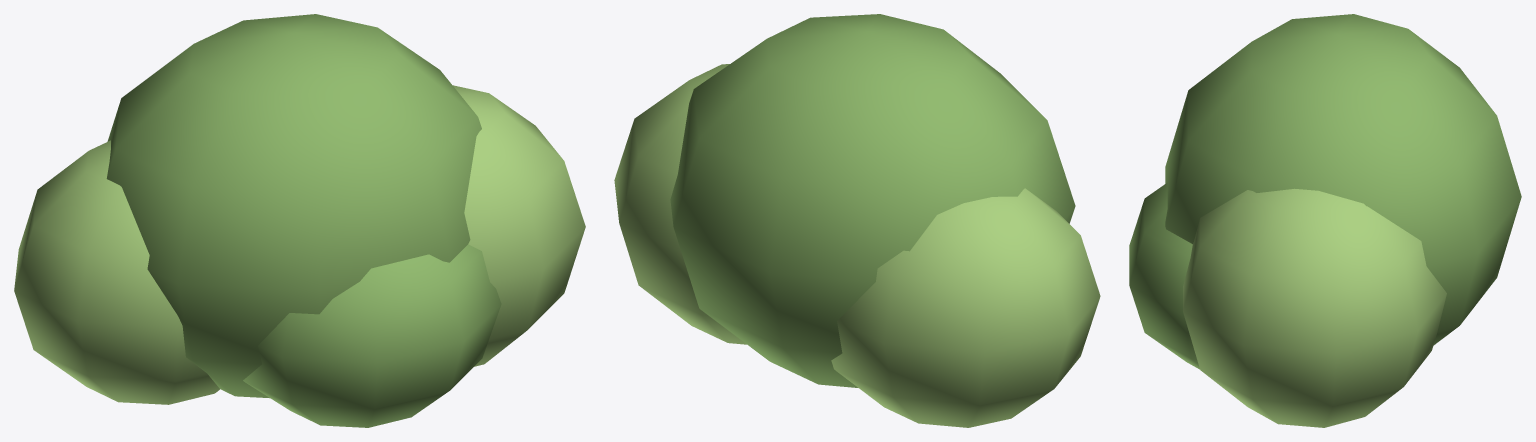
File: gourd-prop-bush.glb
The picture shows the model from 3 angles, left to right: view 1: azimuth 30°, elevation 25°; view 2: azimuth 150°, elevation 25°; view 3: azimuth 270°, elevation 25°; orthographic projection. The views are drawn at different scales.
Visible parts, largest first — view 1: mass0, mass1, mass3, mass2; view 2: mass0, mass1, mass2; view 3: mass0, mass2, mass3.
Boxes of the visible parts, x1,y1,x2,y2 form: mass0: (106,14,481,398); mass1: (14,140,219,404); mass3: (243,244,501,427); mass2: (453,85,585,366); mass0: (670,14,1075,387); mass1: (831,188,1100,427); mass2: (614,64,746,344); mass0: (1165,14,1521,345); mass2: (1183,188,1446,427); mass3: (1129,182,1199,369).
Size of the model in its own units: 0.1269 by 0.084 by 0.0923.
